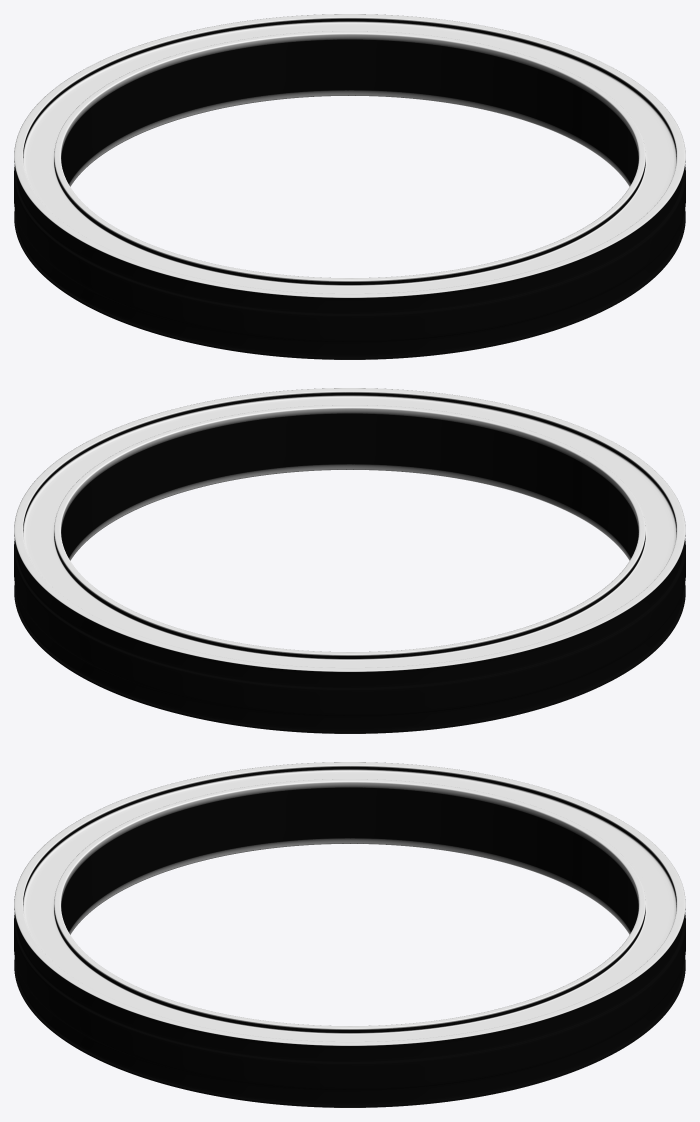
Rendered from Crypto2_outmesh.gltf.
3 views of the same model, one above another, from view 1: azimuth 30°, elevation 25°; view 2: azimuth 150°, elevation 25°; view 3: azimuth 270°, elevation 25° (orthographic).
Visible parts, largest first — view 1: OutSilver.001; view 2: OutSilver.001; view 3: OutSilver.001.
Boxes of the visible parts, x1,y1,x2,y2 form: OutSilver.001: [14, 14, 685, 359]; OutSilver.001: [14, 388, 685, 733]; OutSilver.001: [14, 762, 685, 1107].
Size of the model in its own units: 2.02 by 0.2074 by 2.02.
1 material, 1 textured.
